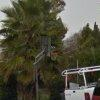Tree: (6, 0, 82, 78)
